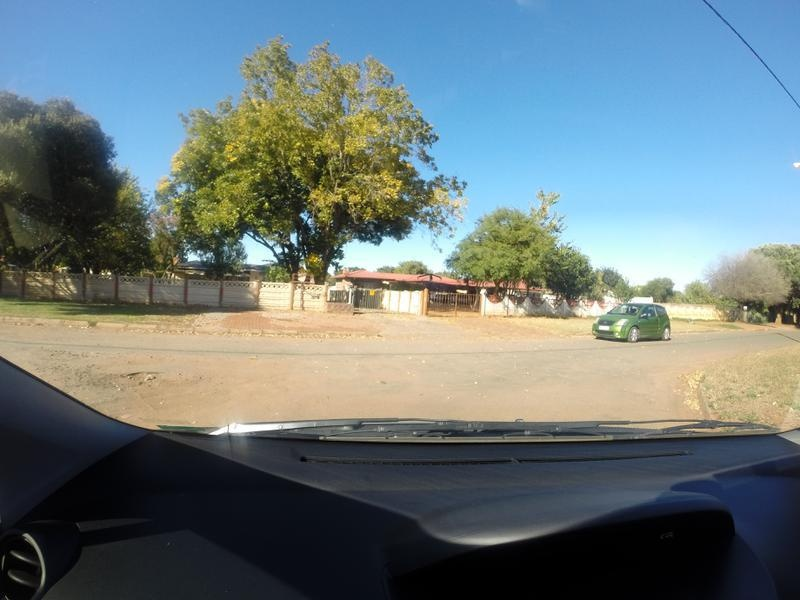pothole: (89, 353, 182, 403)
